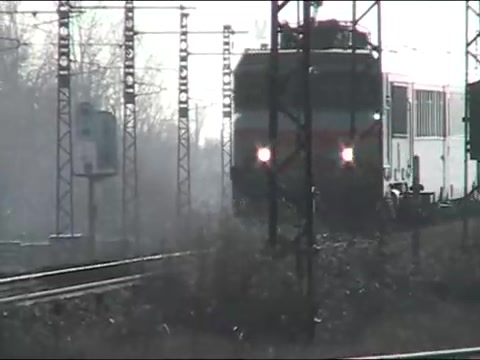train: (229, 15, 480, 220)
